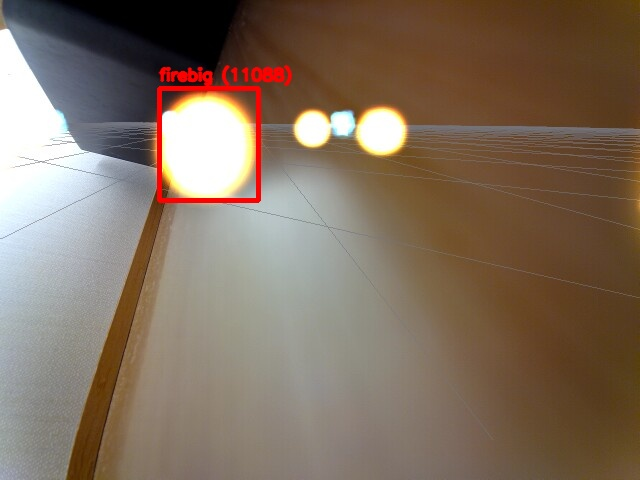firebig: (159, 88, 258, 200)
